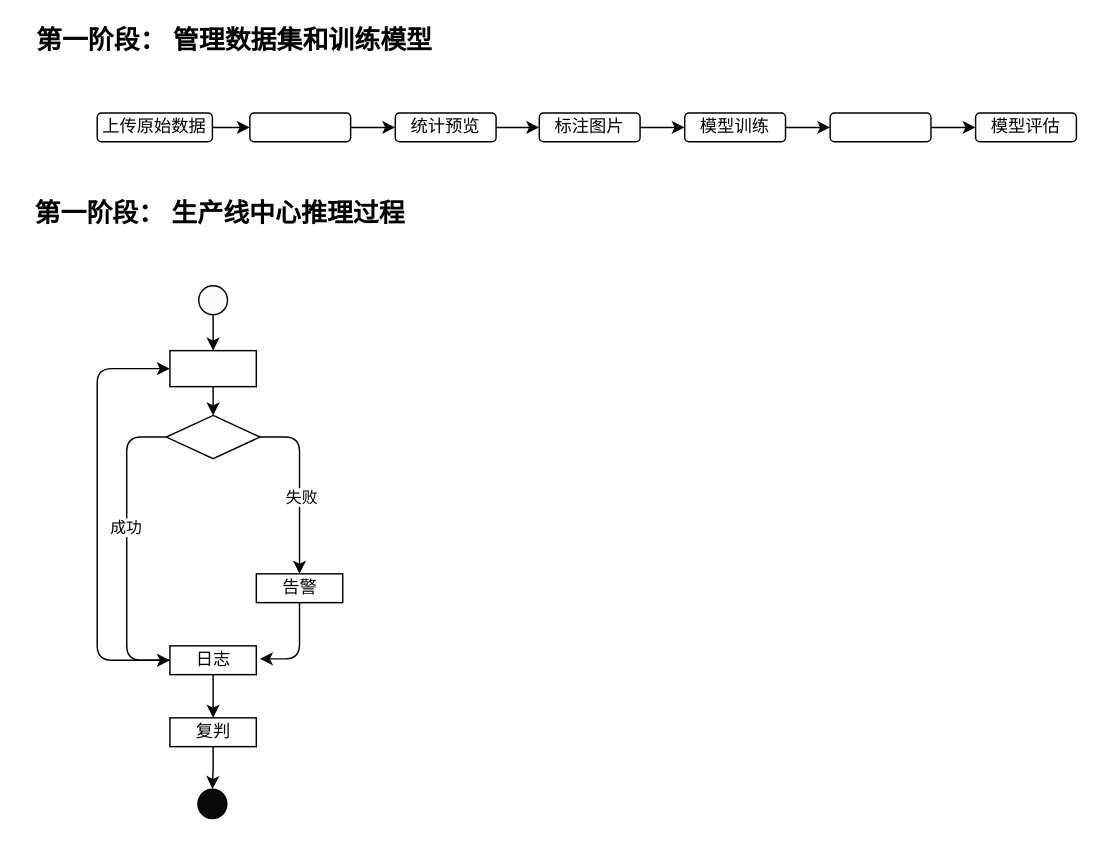
Image size: 1102x844. Some labels were removed from this diagram. Here are the shapes that lost their labels. From the top down, the centre of each, then its label:
At pixel 299 127: "制作数据集".
At pixel 880 127: "模型转换".
At pixel 212 368: "上传照片".
At pixel 212 436: "推理".
